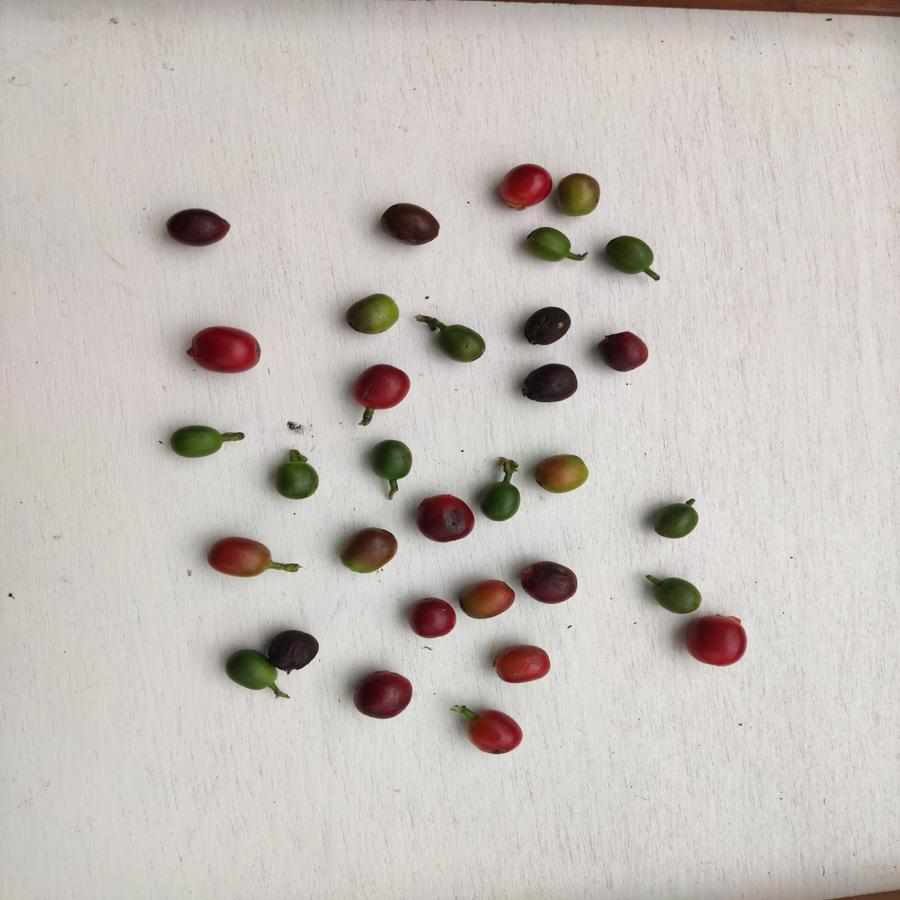Inmaduro: (221, 646, 270, 697), (649, 498, 701, 544), (164, 423, 228, 459), (273, 459, 324, 504), (603, 233, 655, 276), (368, 438, 414, 485), (651, 574, 706, 613), (478, 479, 524, 523), (440, 323, 486, 362), (526, 227, 573, 265)
Maduro: (684, 614, 750, 669), (460, 707, 525, 759), (189, 327, 260, 373), (353, 365, 412, 416), (493, 163, 554, 212), (406, 592, 458, 644), (493, 645, 554, 684)
Pinton: (204, 535, 275, 584), (337, 528, 398, 573), (532, 453, 591, 497), (343, 293, 403, 335), (461, 579, 517, 620), (556, 171, 600, 216)
Sobremaduro: (410, 490, 476, 545), (350, 669, 417, 720), (164, 202, 232, 247), (521, 558, 582, 607), (378, 203, 440, 251), (596, 329, 650, 377), (519, 361, 577, 405), (264, 629, 319, 670), (518, 306, 571, 346)
